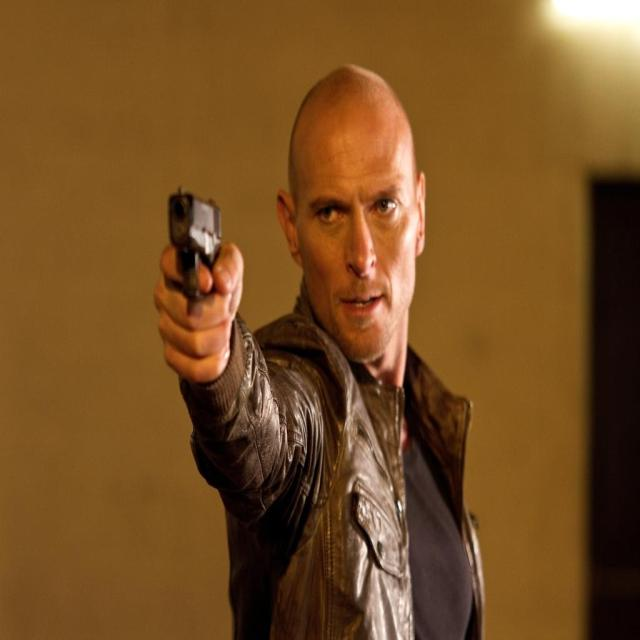Face: (300, 106, 425, 343)
